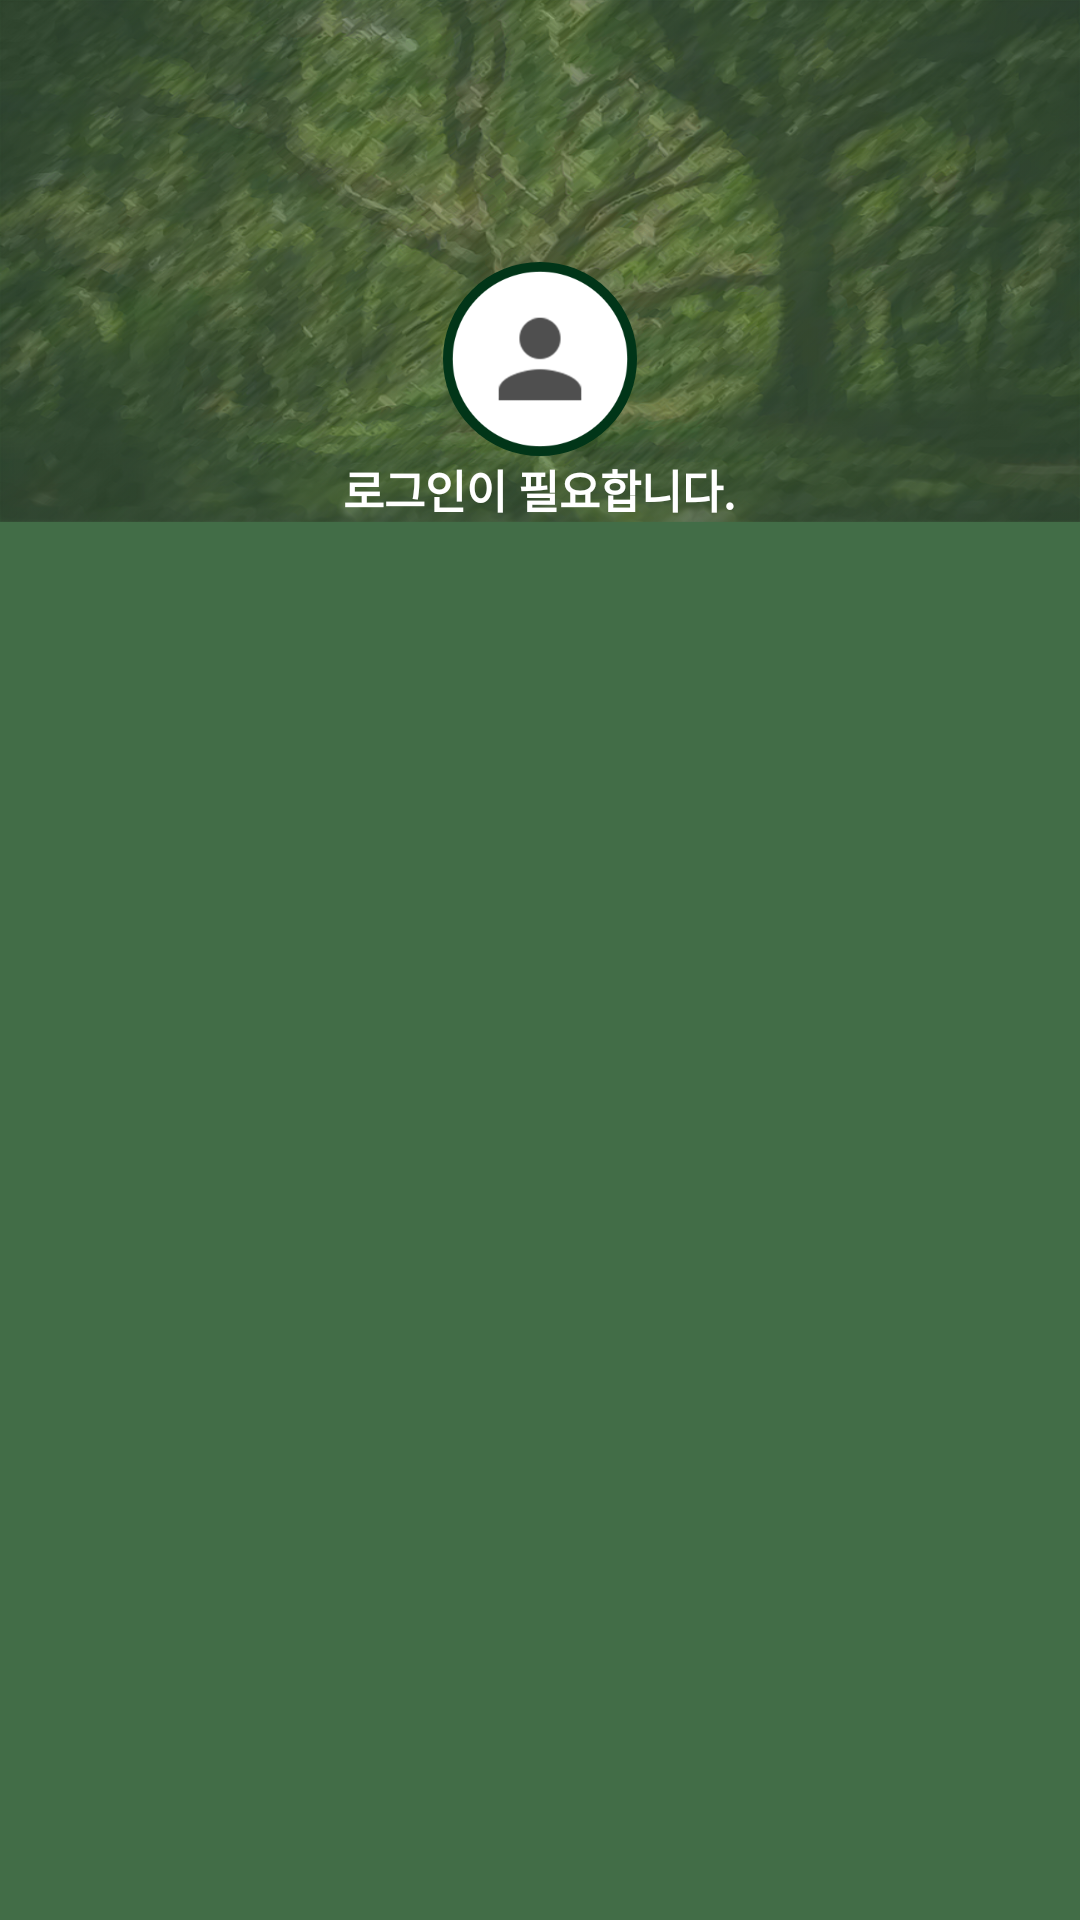

Icon click points for this 1080px×1920px phone screenshot, format point (x, y):
profile person: point (540, 359)
